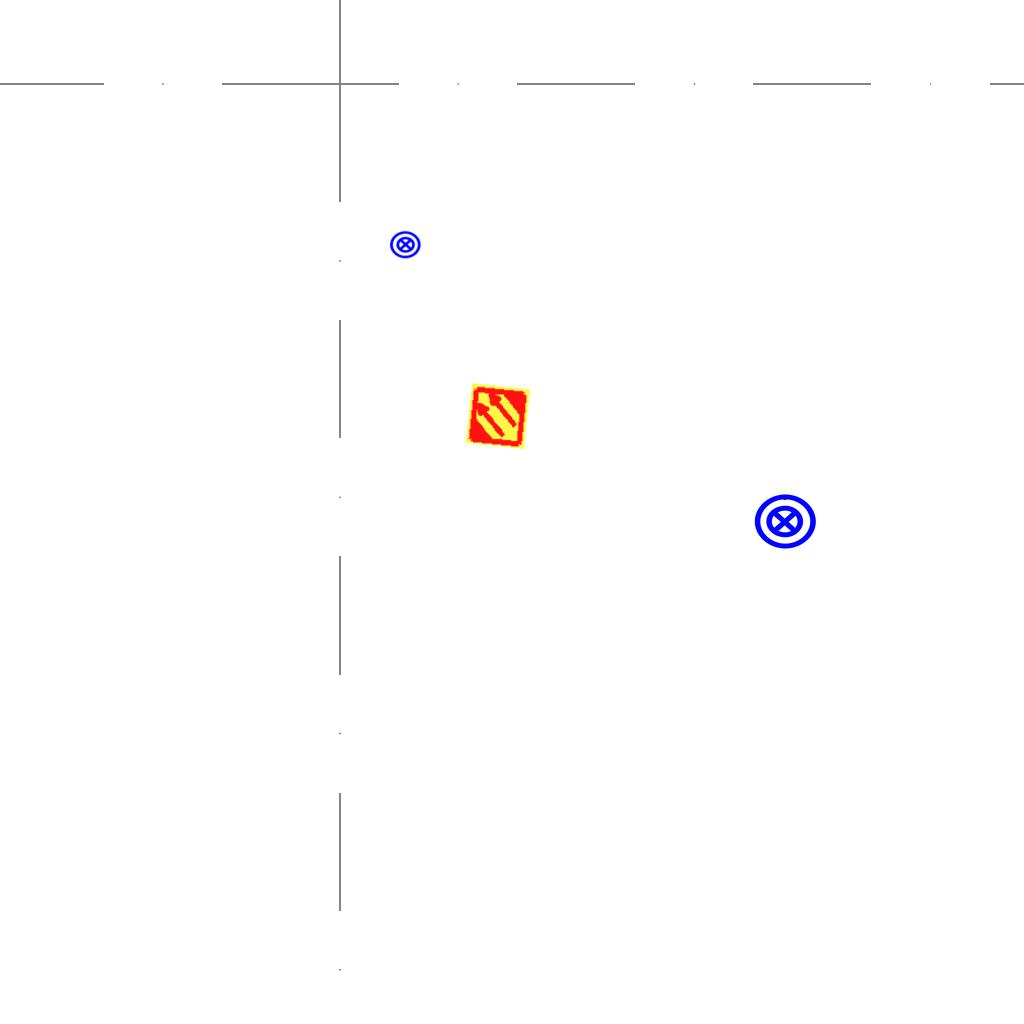ASR_Ansaugrauchmelder: (463, 381, 533, 451)
Taster_beleuchtet: (752, 489, 818, 555), (389, 228, 422, 261)
